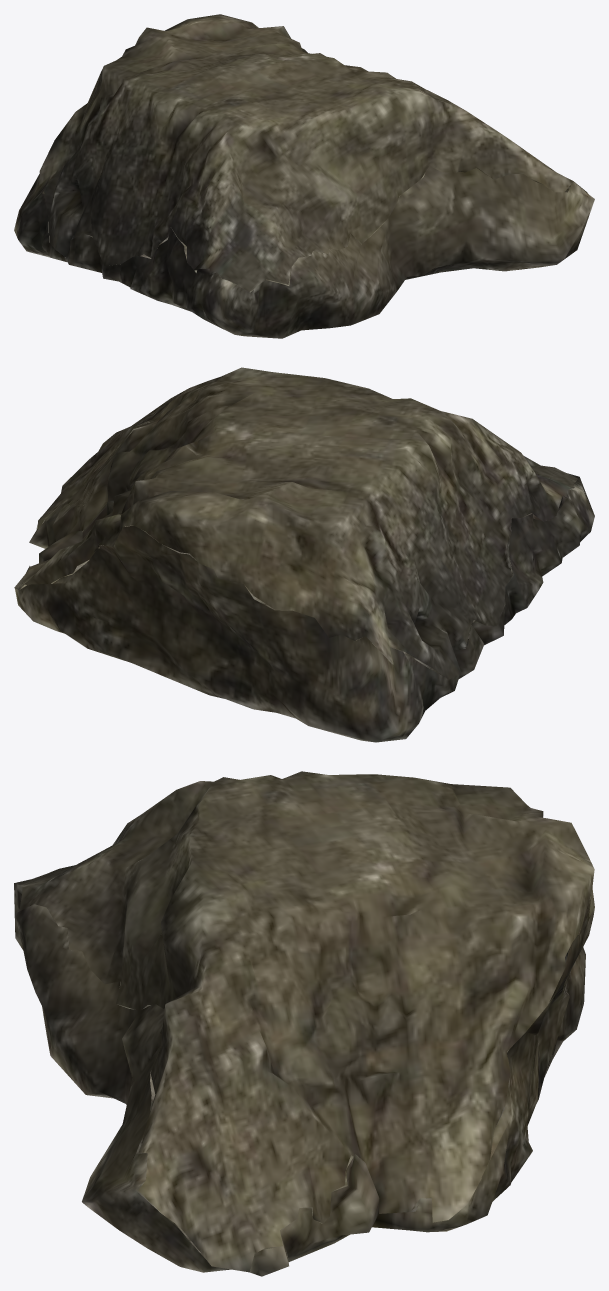
Rendered from pr_moss_b_03.fbx.
3 renders of one model, top to bottom at view 1: azimuth 30°, elevation 25°; view 2: azimuth 150°, elevation 25°; view 3: azimuth 270°, elevation 25°, orthographic. The views are drawn at different scales.
Parts seen in each view (by area): view 1: pr_moss_b_03_LOD0; view 2: pr_moss_b_03_LOD0; view 3: pr_moss_b_03_LOD0.
Part boxes in pixels (x1=…): pr_moss_b_03_LOD0: x1=14, y1=14, x2=594, y2=338; pr_moss_b_03_LOD0: x1=14, y1=367, x2=594, y2=742; pr_moss_b_03_LOD0: x1=14, y1=771, x2=594, y2=1276.
Size of what is drawn, in the model's own units: 1.21 by 0.5203 by 0.9795.
